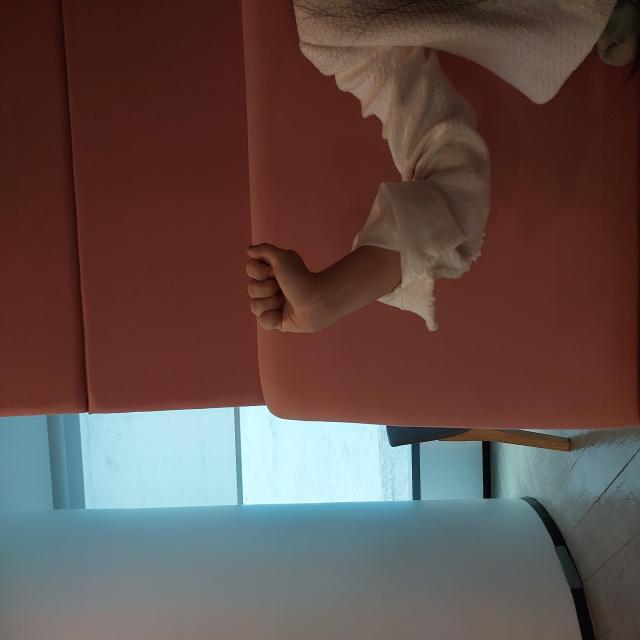A: (306, 246, 398, 315)
